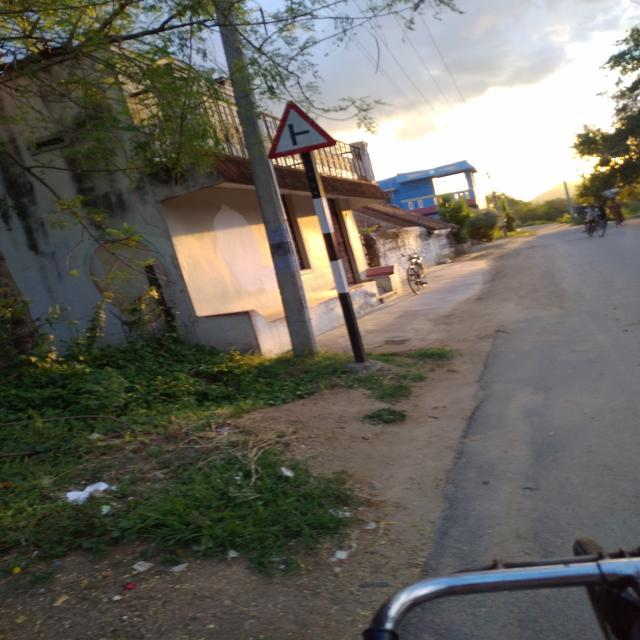side road right: (267, 99, 338, 159)
